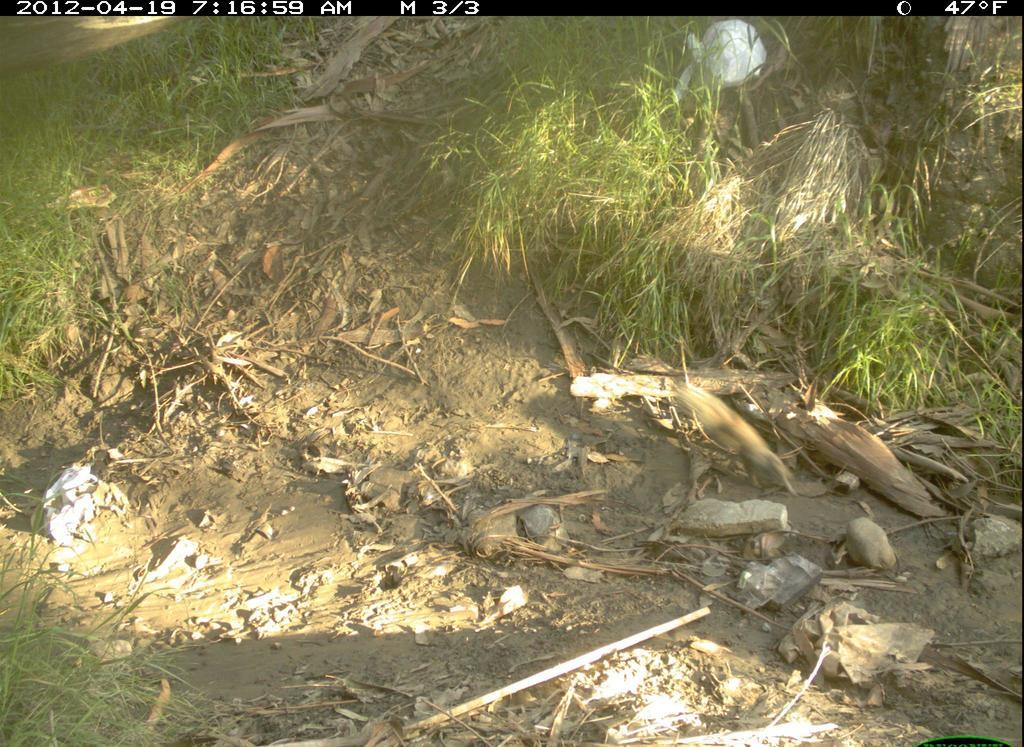squirrel: (660, 365, 803, 497)
